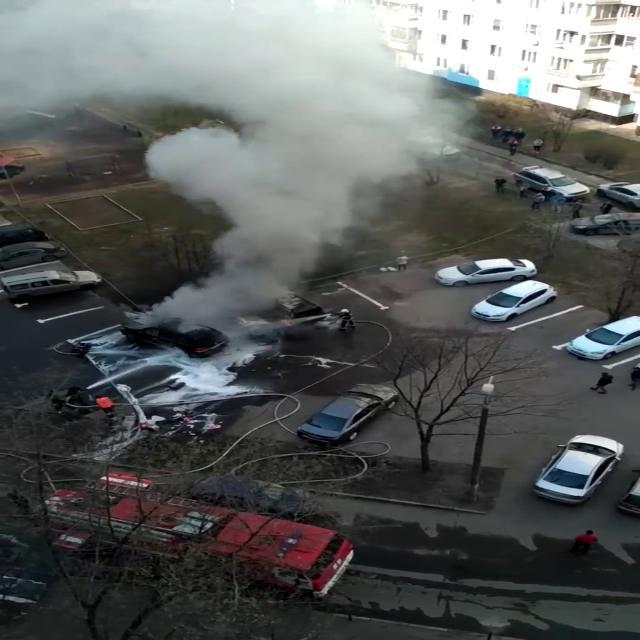Smoke: (106, 0, 467, 344)
